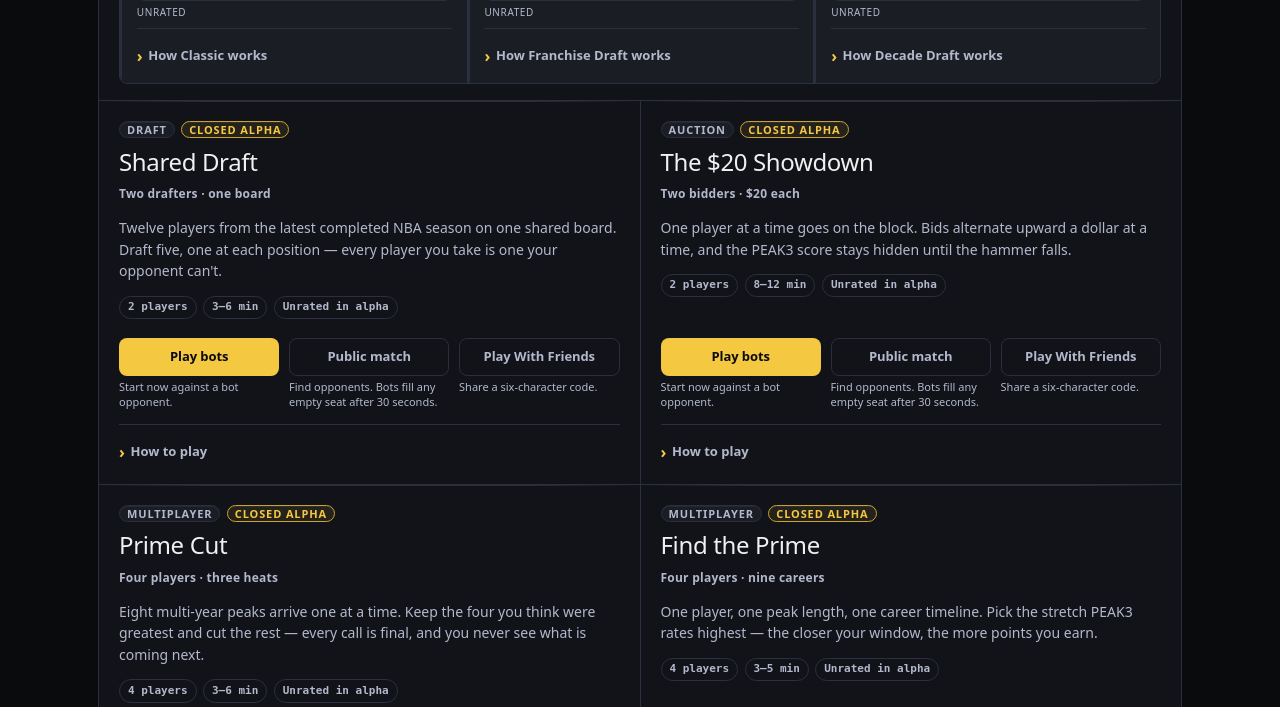
Test: starting a game › refuses to submit a join until a full six-character code is typed
The image size is (1280, 707).
(page scrolled)
Click the button with test id "lobby-twenty_dollar-private_room" at (1081, 357), box [1001,338,1161,376]
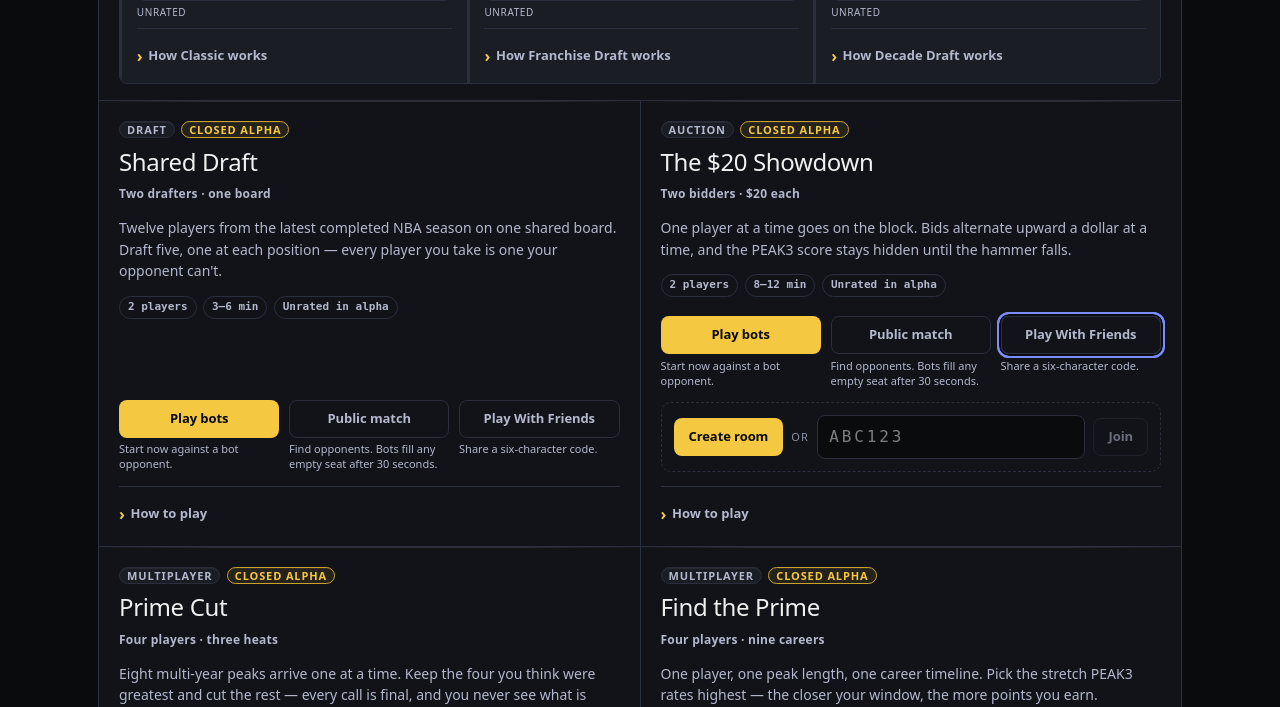
Expected: the button with test id "lobby-twenty_dollar-join-submit" is disabled, [1094,418,1148,456]
Type "abc23x" into the field with test id "lobby-twenty_dollar-join-code" at (951, 437), box [817,415,1086,459]
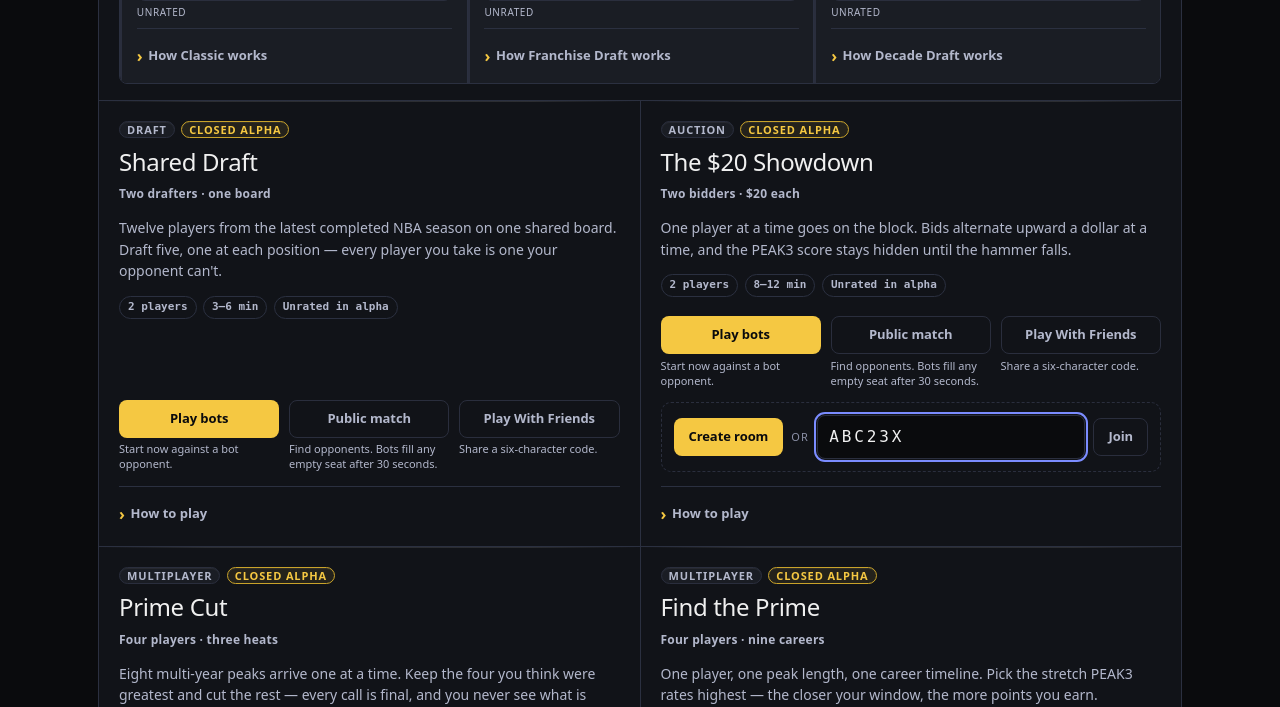
Expected: the button with test id "lobby-twenty_dollar-join-submit" is enabled, [1094,418,1148,456]
